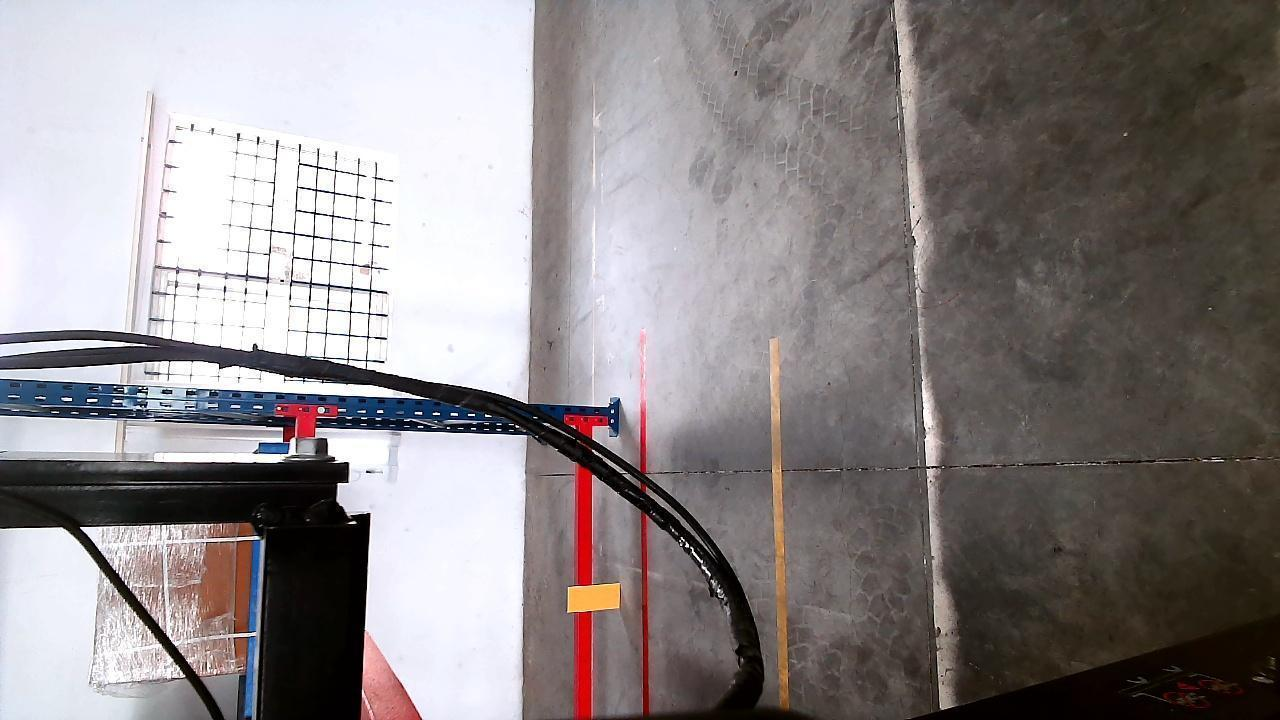red_line: (637, 327, 654, 712)
yellow_line: (770, 346, 792, 700)
